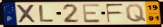2: (63, 4, 80, 24)
E: (81, 4, 102, 24)
F: (105, 3, 125, 24)
L: (38, 5, 56, 23)
Q: (125, 3, 148, 23)
X: (15, 4, 38, 23)
